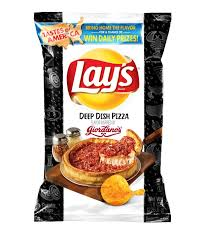lays-med: (36, 15, 167, 215)
